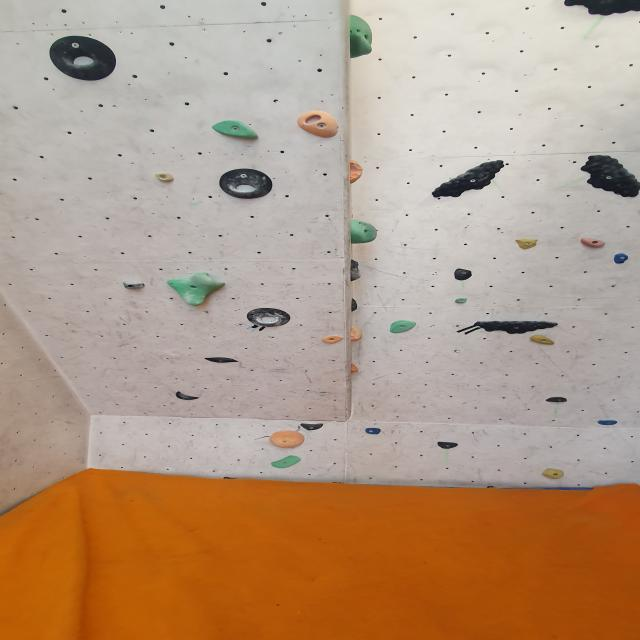Crimp: (387, 320, 416, 334), (579, 237, 609, 250), (513, 238, 541, 251), (153, 172, 178, 184), (450, 269, 474, 281), (436, 441, 462, 451), (545, 395, 571, 405), (612, 252, 632, 264), (321, 337, 344, 346), (362, 427, 382, 436), (597, 420, 619, 427), (455, 297, 469, 303)
Jug: (427, 160, 506, 198), (577, 154, 639, 198), (165, 274, 228, 308), (467, 318, 559, 334), (343, 15, 374, 60), (557, 0, 639, 16)
Pinch: (210, 120, 262, 141), (344, 158, 367, 184), (270, 455, 302, 469), (527, 335, 555, 347), (122, 282, 146, 290)
Pocket: (44, 35, 122, 81), (218, 170, 275, 198), (294, 111, 340, 140), (244, 310, 292, 326)
Sloper: (348, 218, 378, 244), (269, 431, 305, 449)
